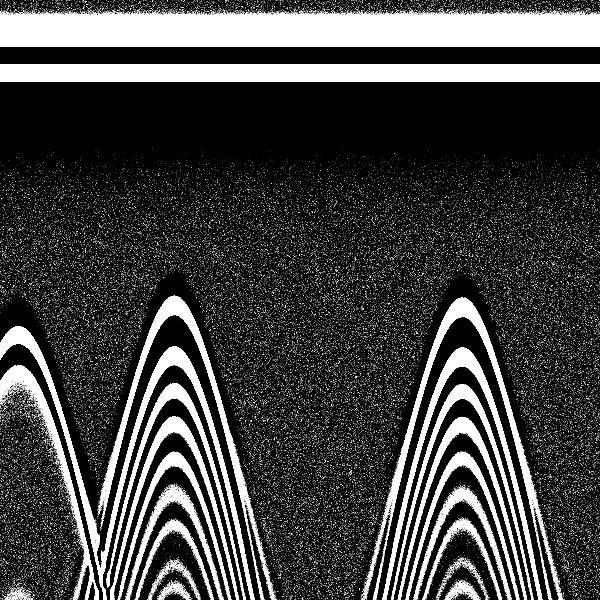pipe: (413, 5, 514, 382), (123, 7, 223, 385), (1, 4, 79, 421)
